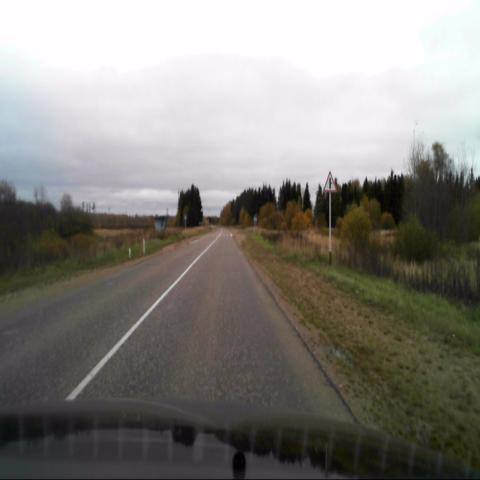2_3_2: (323, 171, 337, 193)
